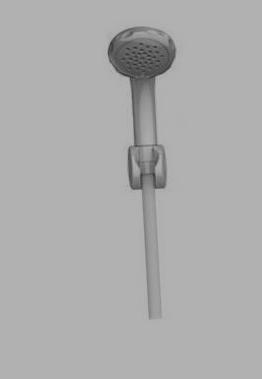Ducha: (98, 17, 187, 325)
